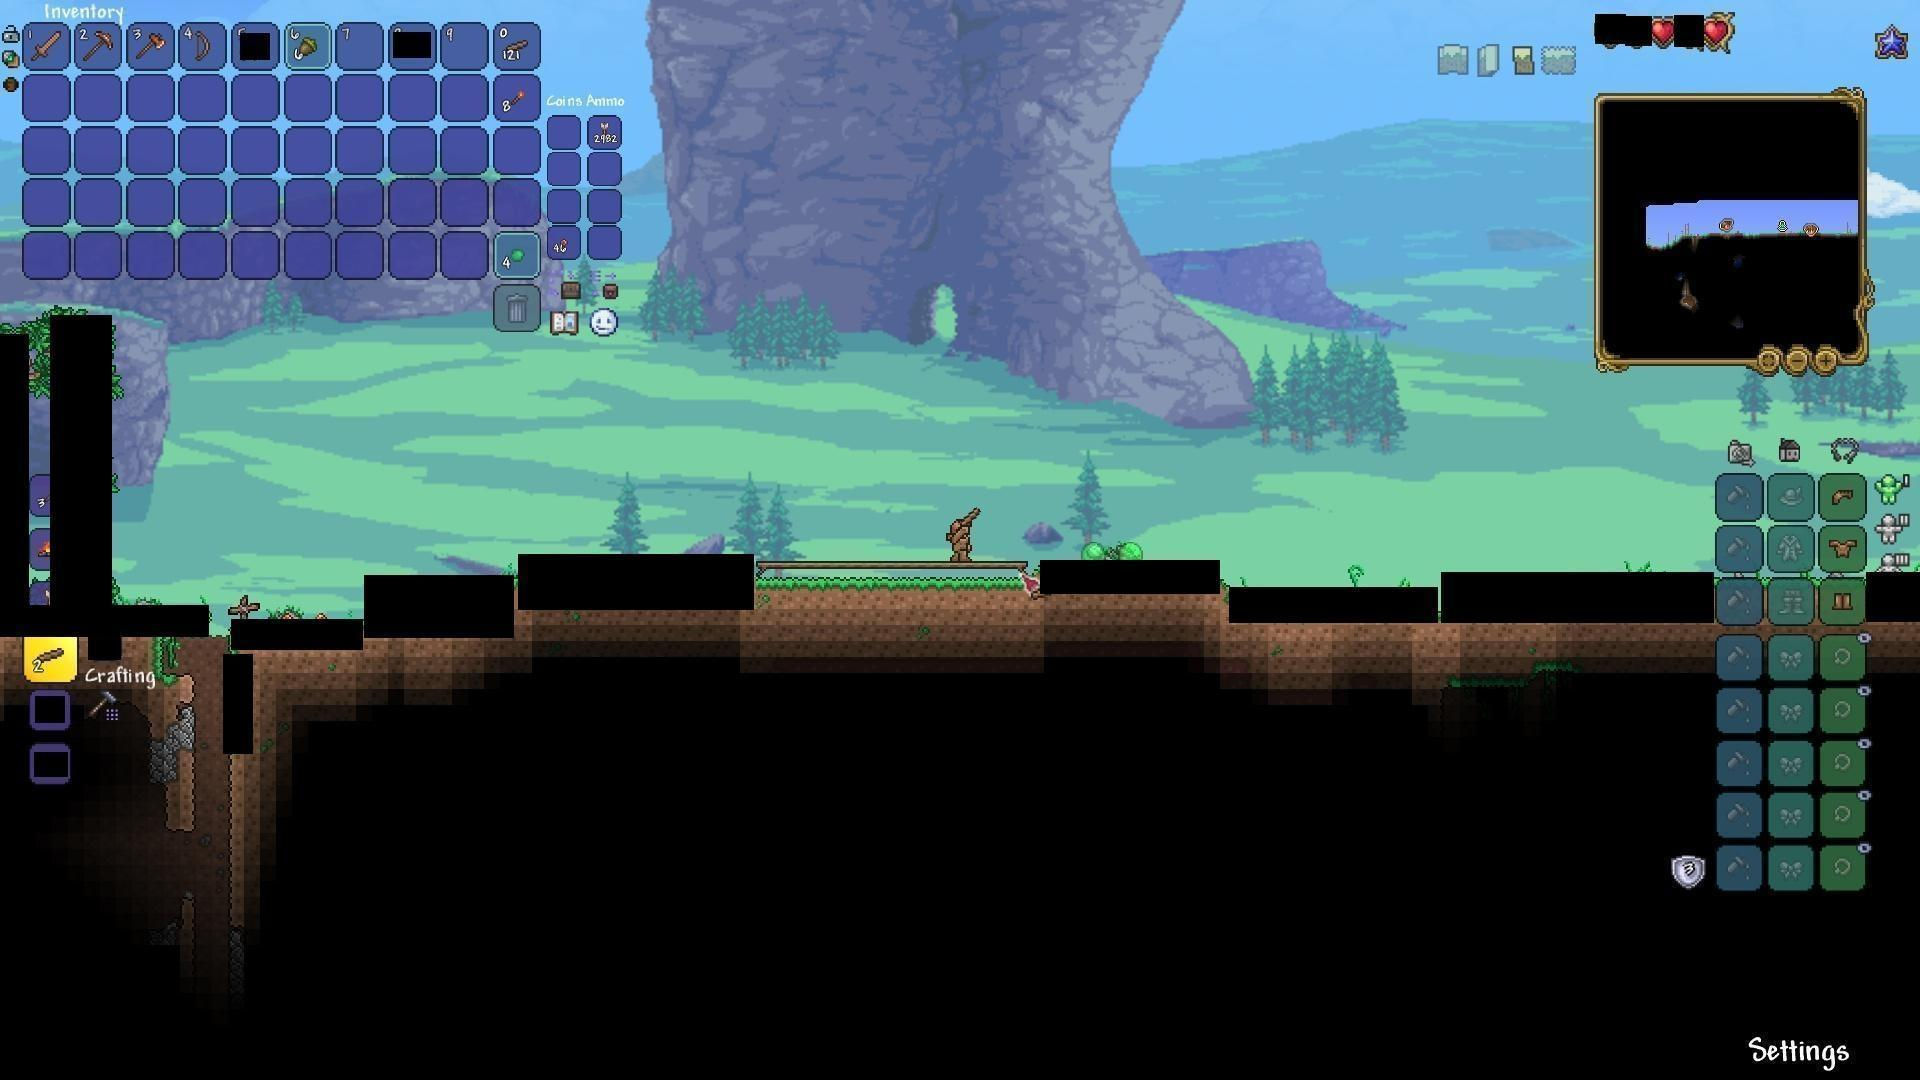breastplate: (1830, 537, 1859, 559)
dirt: (757, 564, 1039, 615)
heart: (1704, 16, 1731, 47), (1648, 17, 1676, 47)
helmet: (1828, 485, 1857, 510)
legs: (1832, 588, 1857, 616)
slime: (1117, 542, 1142, 570), (1083, 535, 1106, 564)
